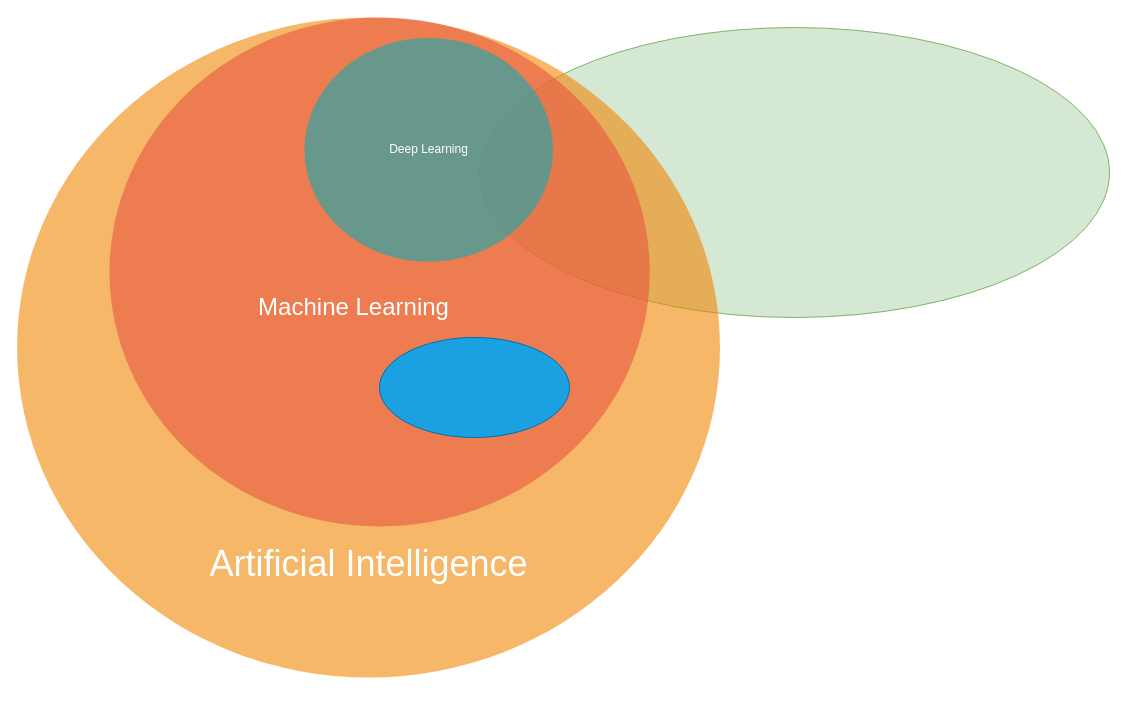
Image size: 1127x714. Some labels were removed from this diagram. Each missing label, with the box of its shape:
Data Mining: (378, 336, 570, 438)
Data Science: (478, 26, 1110, 318)
